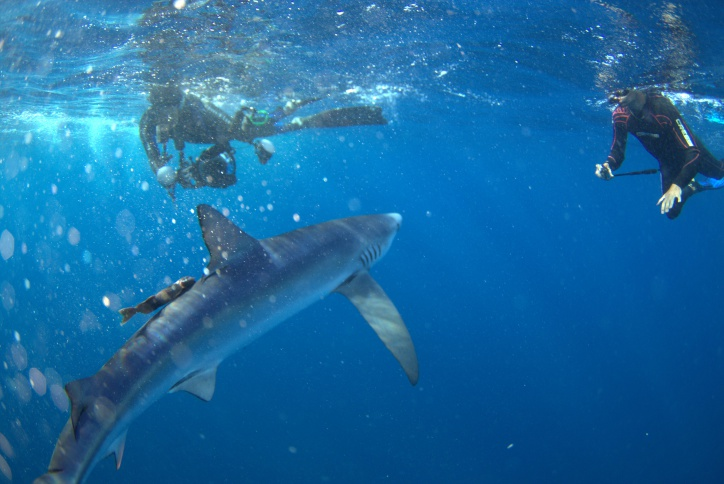Azul: (22, 190, 450, 484)
